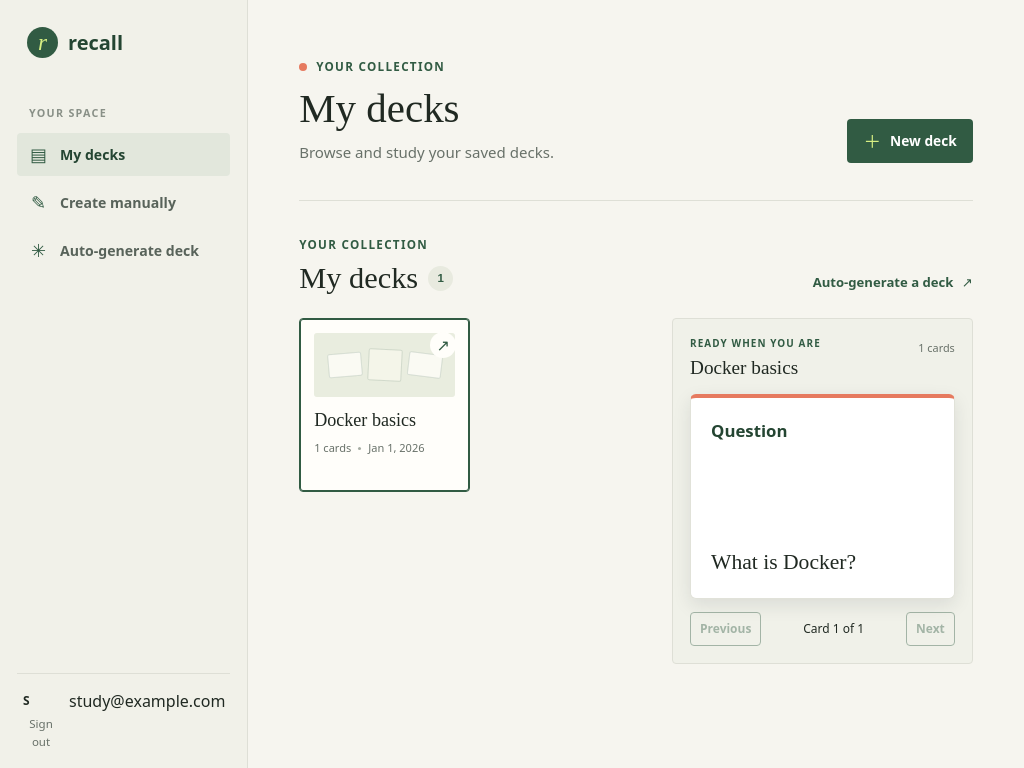
Test case: Dashboard › shows an error when card generation fails
Click the link "✳ Auto-generate deck" at (115, 250), box [31,238,199,262]
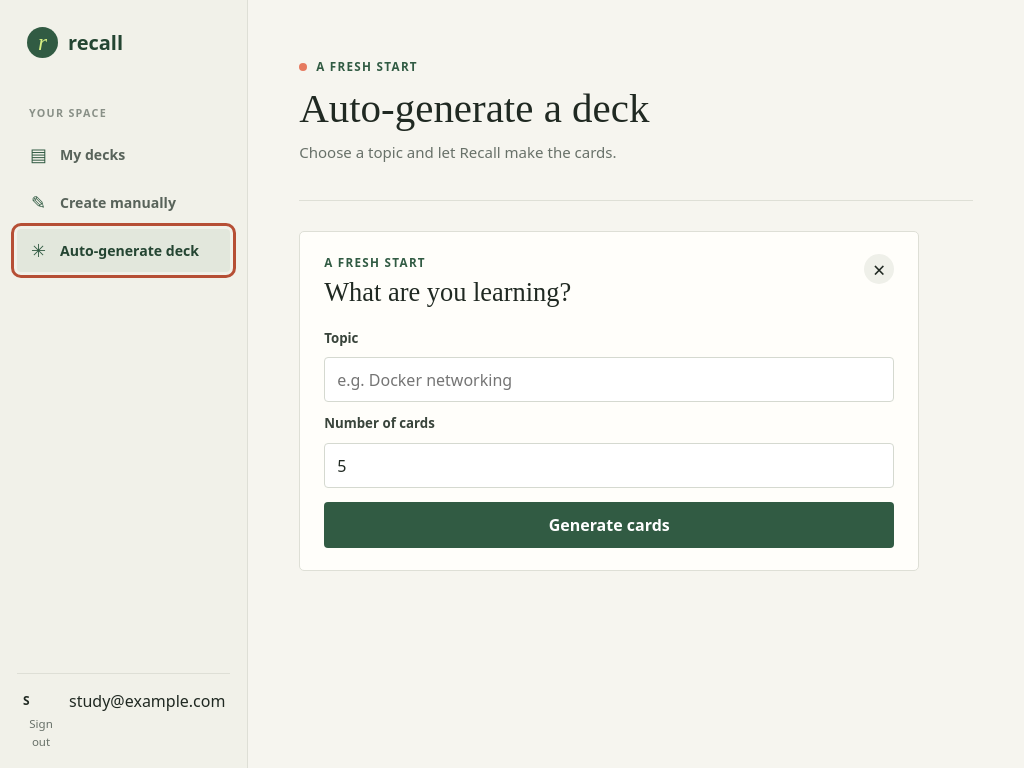
Type "French" into the field labelled "Topic" at (609, 380), box [324,358,894,402]
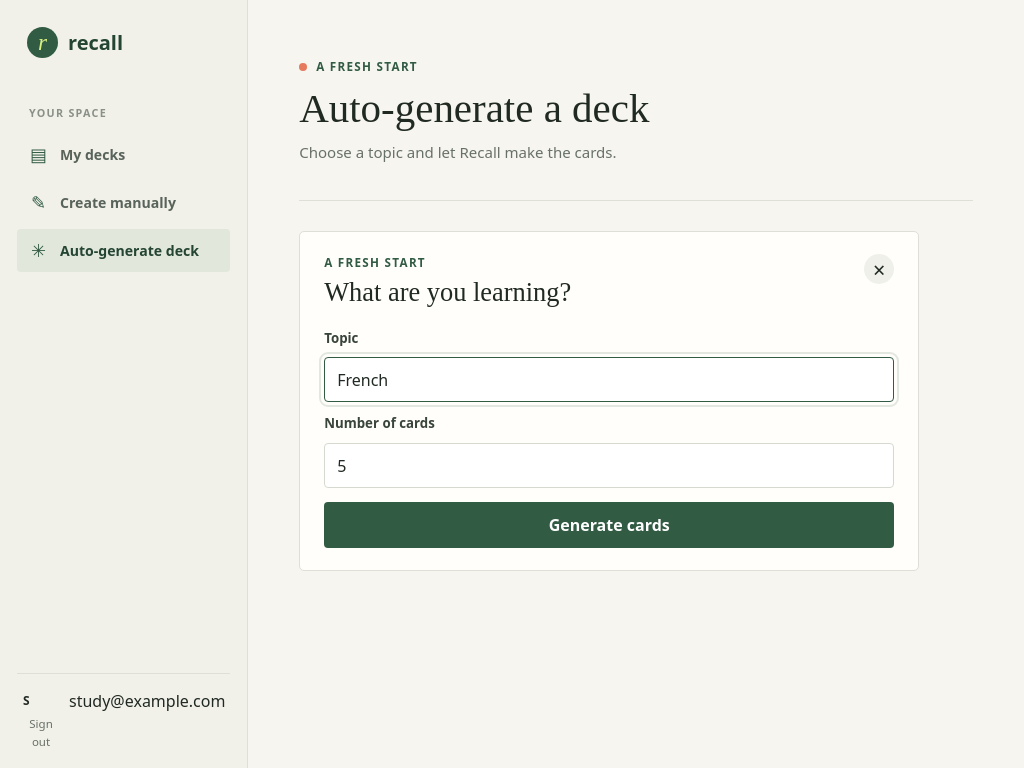
Click the button "Generate cards" at (609, 525), box [324,502,894,548]
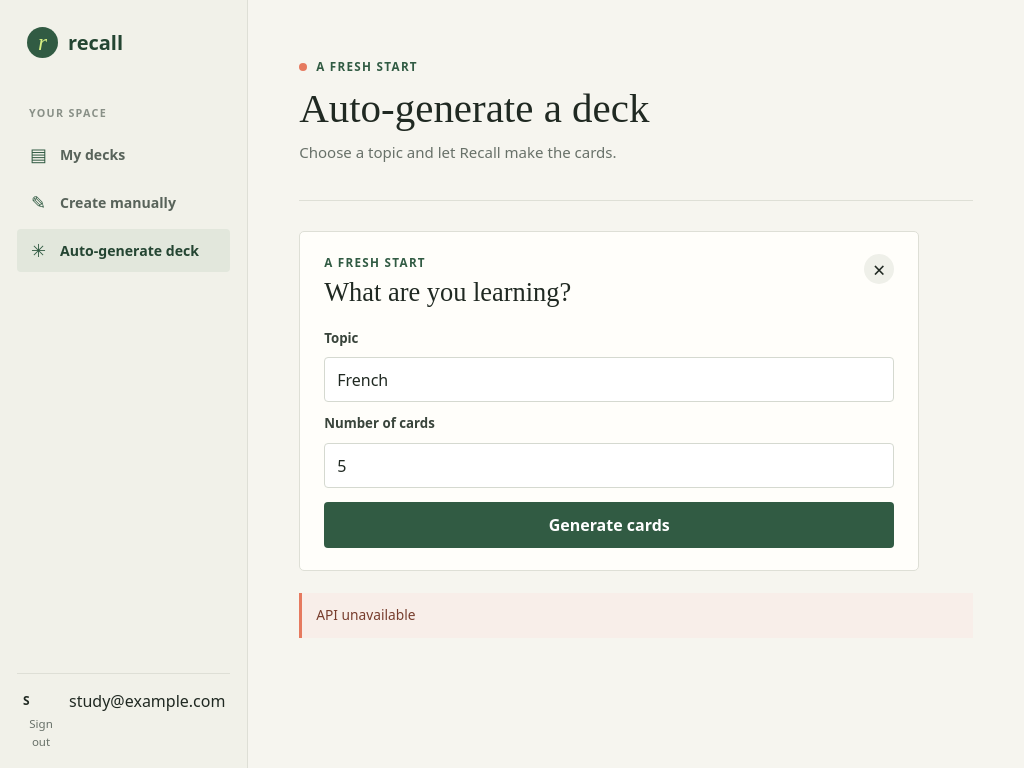
Result: the button "Generate cards" is enabled at [324,502,894,548]
Result: the message reads "API unavailable" at [316,605,416,624]
